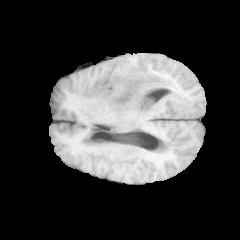glioma: (99, 65, 173, 113)
